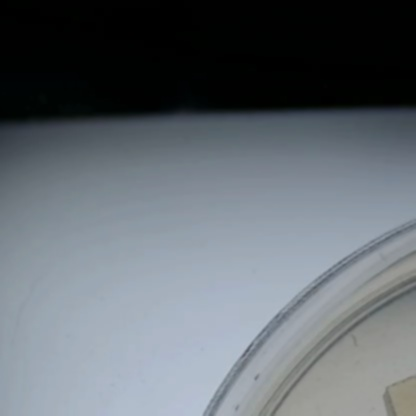worm: (349, 332, 361, 351)
